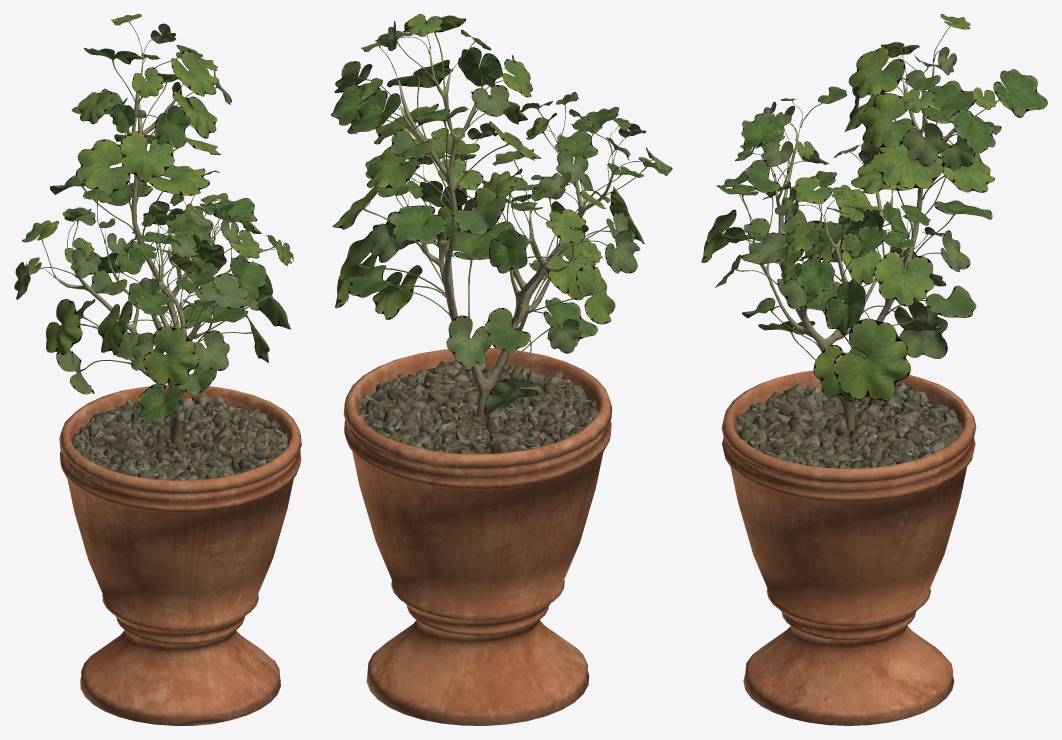
Rendered from potted-plant.glb.
3 views of the same model, side by side, from view 1: azimuth 30°, elevation 25°; view 2: azimuth 150°, elevation 25°; view 3: azimuth 270°, elevation 25° (orthographic). The views are drawn at different scales.
Parts seen in each view (by area): view 1: potted_plant_01_stem, potted_plant_01_leaves; view 2: potted_plant_01_stem, potted_plant_01_leaves; view 3: potted_plant_01_stem, potted_plant_01_leaves.
Boxes of the visible parts, x1=… form: potted_plant_01_stem: x1=54, y1=54, x2=301, y2=725; potted_plant_01_leaves: x1=14, y1=14, x2=293, y2=423; potted_plant_01_stem: x1=343, y1=49, x2=612, y2=725; potted_plant_01_leaves: x1=331, y1=14, x2=672, y2=414; potted_plant_01_stem: x1=721, y1=55, x2=976, y2=725; potted_plant_01_leaves: x1=701, y1=14, x2=1047, y2=401.
Size of the model in its own units: 0.5874 by 1.34 by 0.6336.
2 materials, 2 textured.
